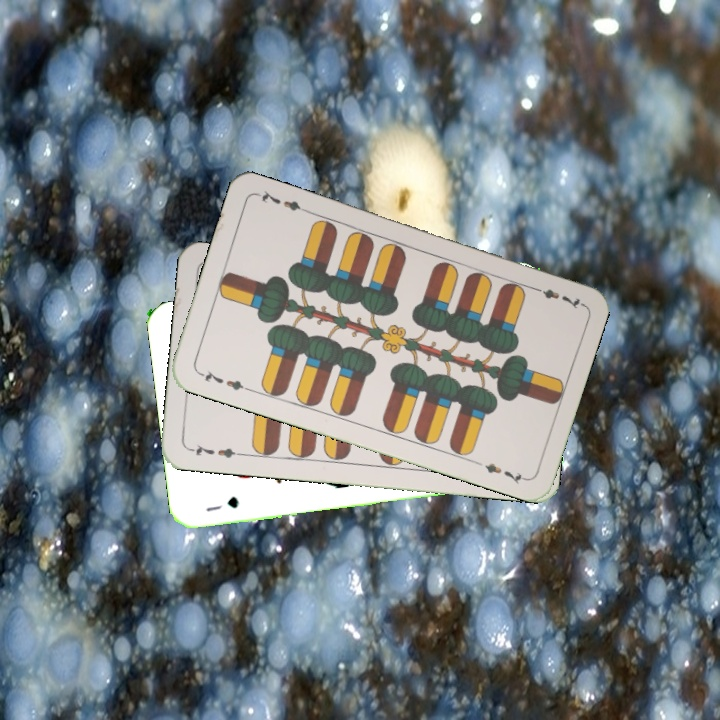E7: (527, 282, 584, 312), (194, 367, 252, 394), (185, 440, 244, 461)
GU: (202, 492, 241, 514)
